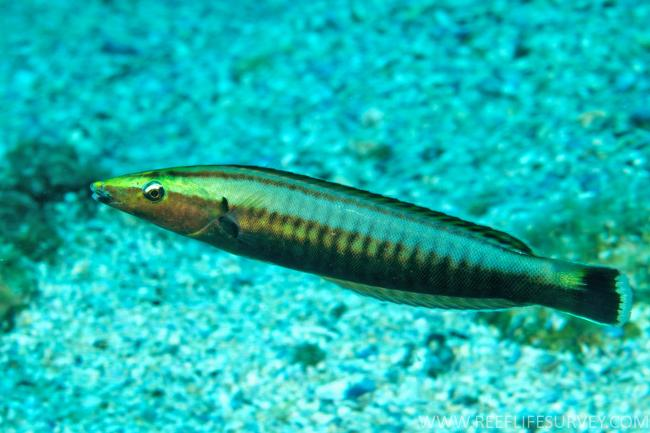fish: (89, 163, 633, 328)
